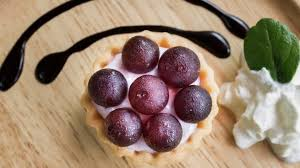Red Grapes: (82, 36, 214, 155)
